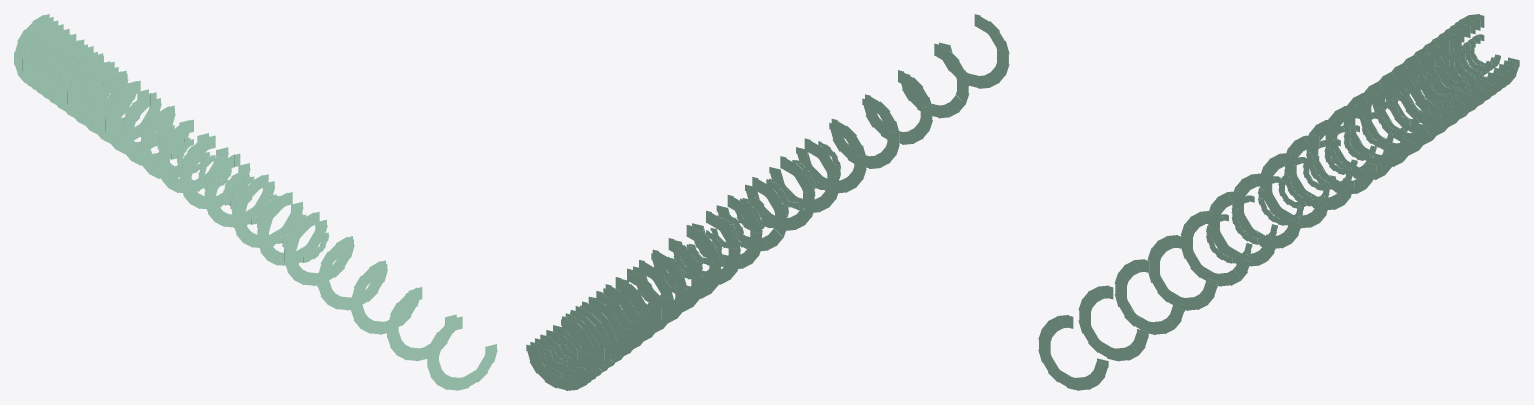
Rendered from ITK-Pixel-Layout-Inner-Endcap-SideA-cut3.glb.
3 views of the same model, side by side, from view 1: azimuth 30°, elevation 25°; view 2: azimuth 150°, elevation 25°; view 3: azimuth 330°, elevation 25° (orthographic).
Parts seen in each view (by area): view 1: ITK_Pixel_Layout_Inner_Endcap_SideA Cut 3; view 2: ITK_Pixel_Layout_Inner_Endcap_SideA Cut 3; view 3: ITK_Pixel_Layout_Inner_Endcap_SideA Cut 3.
Boxes of the visible parts, x1=… form: ITK_Pixel_Layout_Inner_Endcap_SideA Cut 3: x1=14, y1=14, x2=497, y2=390; ITK_Pixel_Layout_Inner_Endcap_SideA Cut 3: x1=526, y1=14, x2=1009, y2=390; ITK_Pixel_Layout_Inner_Endcap_SideA Cut 3: x1=1038, y1=14, x2=1519, y2=390.
Bounding box in the file's own units: 0.2422 × 0.2422 × 2.47.
